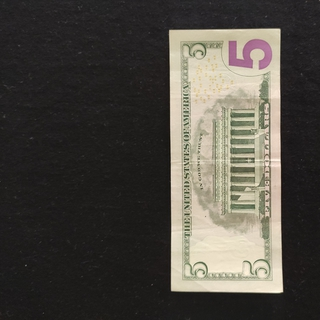5USDBack: (167, 27, 284, 294)
